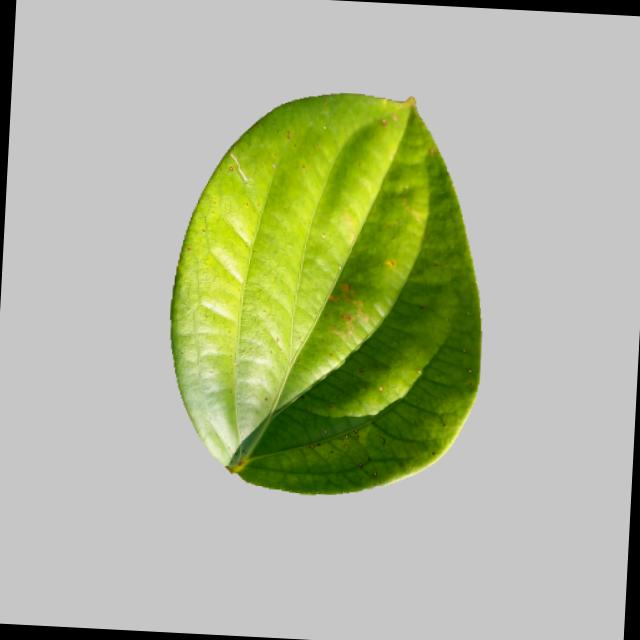healthy: (154, 71, 508, 510)
